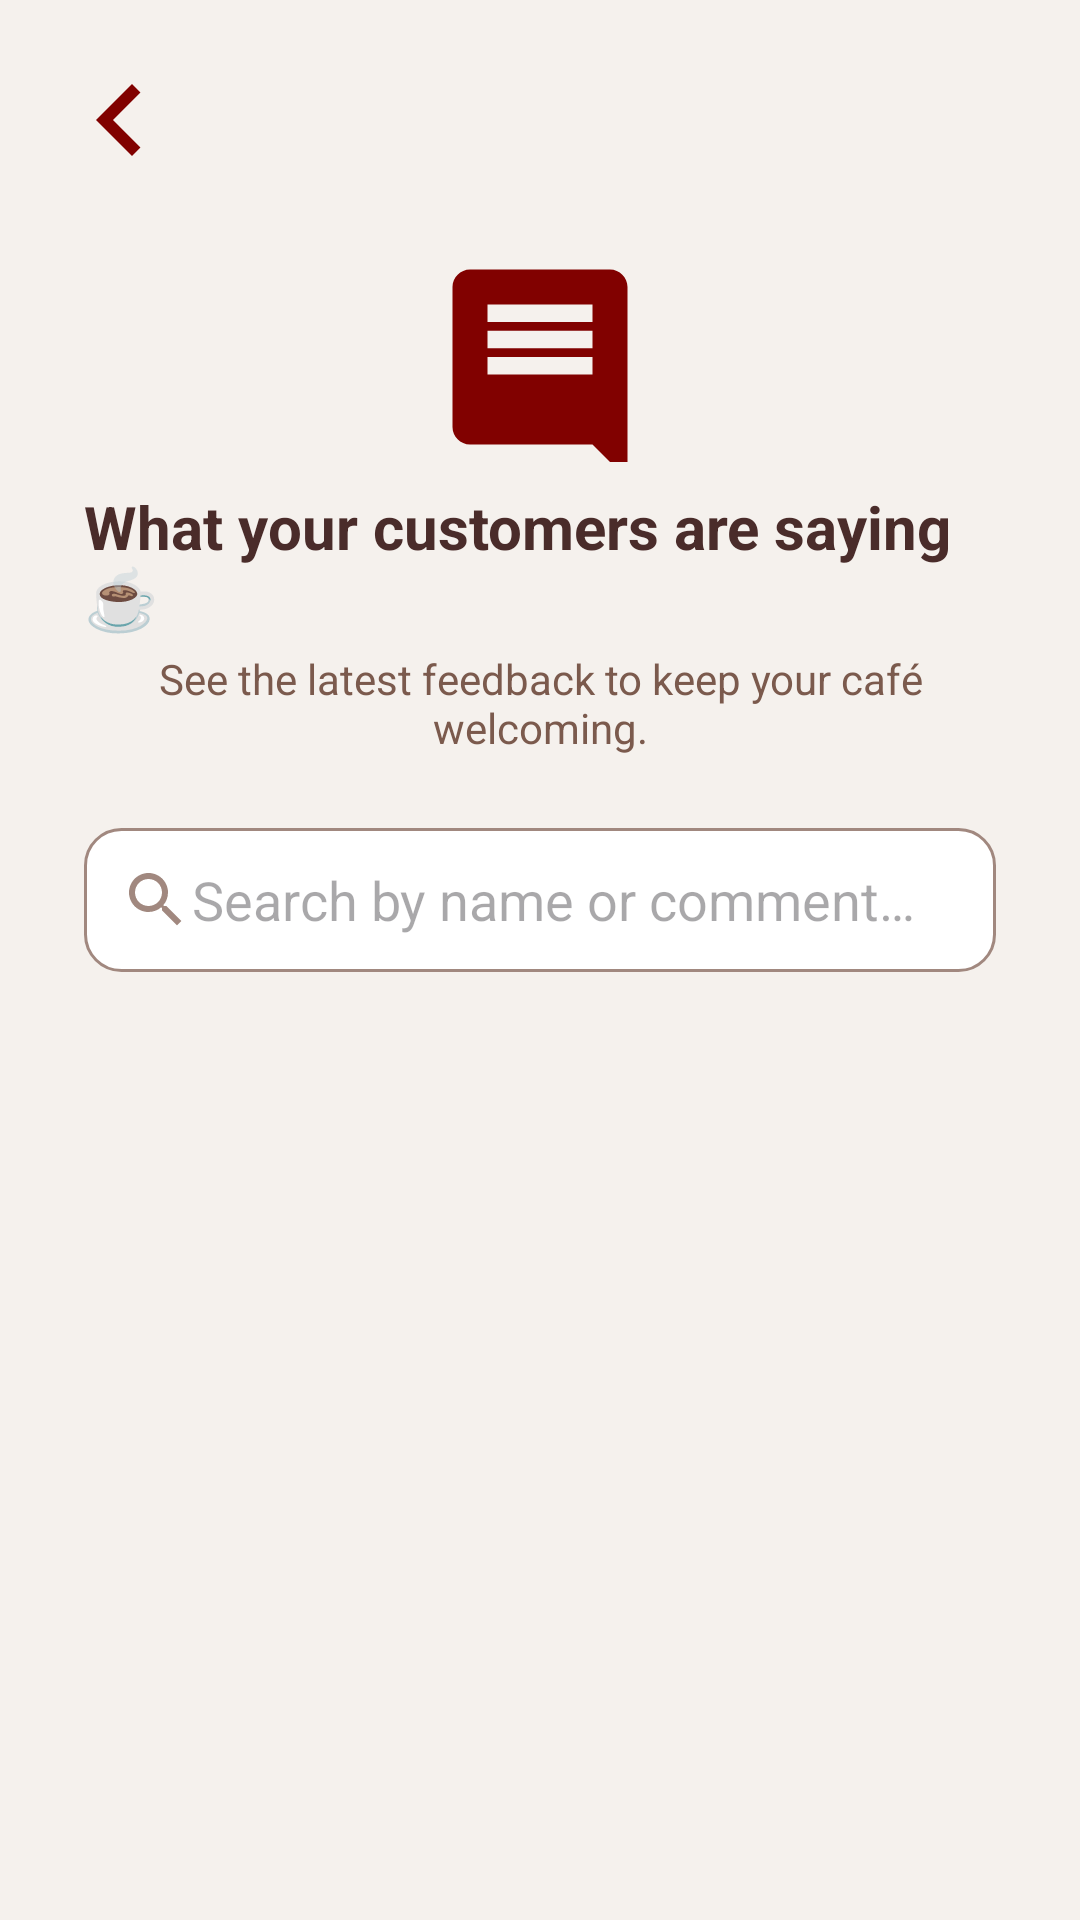

Where icons sit on this 1080*1920 app screen, as (x1, y1, x2, y2):
feedback: (452, 269, 628, 462)
